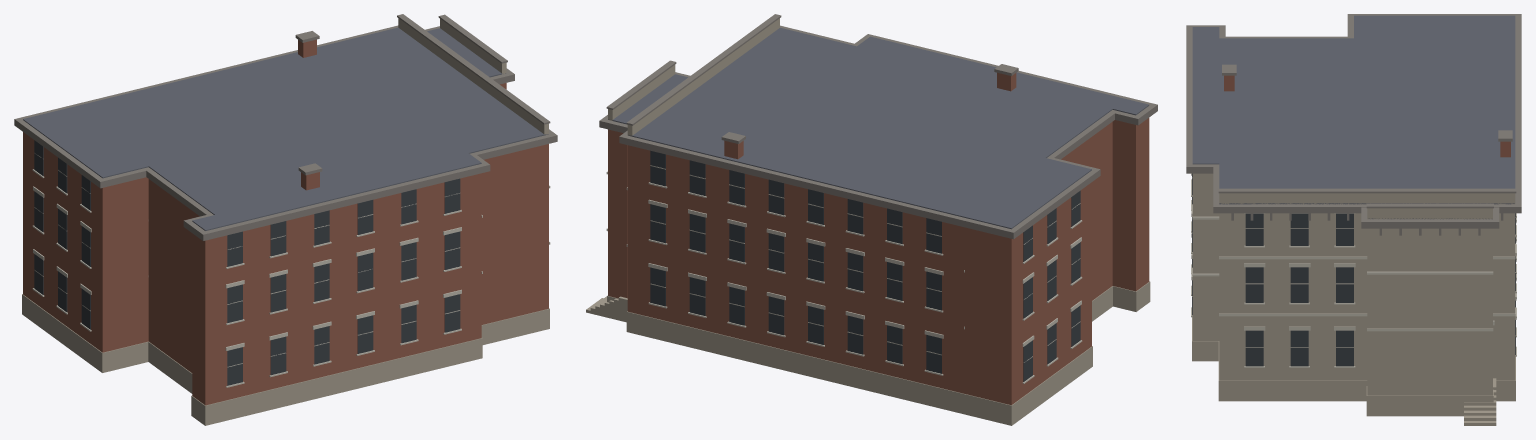
The model's file is edson_keith_house_1906_prairie__draft_1904.glb.
3 views of the same model, side by side, from view 1: azimuth 30°, elevation 25°; view 2: azimuth 150°, elevation 25°; view 3: azimuth 270°, elevation 25° (orthographic).
Parts seen in each view (by area): view 1: edson_keith_house_1906_prairie__draft_1904; view 2: edson_keith_house_1906_prairie__draft_1904; view 3: edson_keith_house_1906_prairie__draft_1904.
Boxes of the visible parts, x1,y1,x2,y2 form: edson_keith_house_1906_prairie__draft_1904: [14, 14, 557, 425]; edson_keith_house_1906_prairie__draft_1904: [586, 14, 1157, 425]; edson_keith_house_1906_prairie__draft_1904: [1186, 14, 1521, 425].
Bounding box in the file's own units: 28.4 × 13.34 × 18.7.
